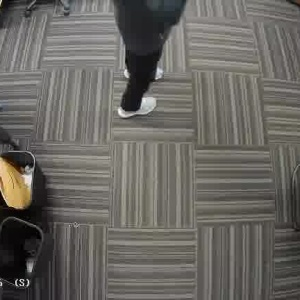person: (108, 0, 183, 118)
